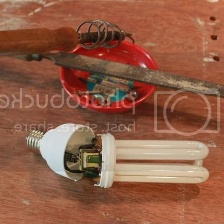light_bulb: (23, 114, 213, 200)
